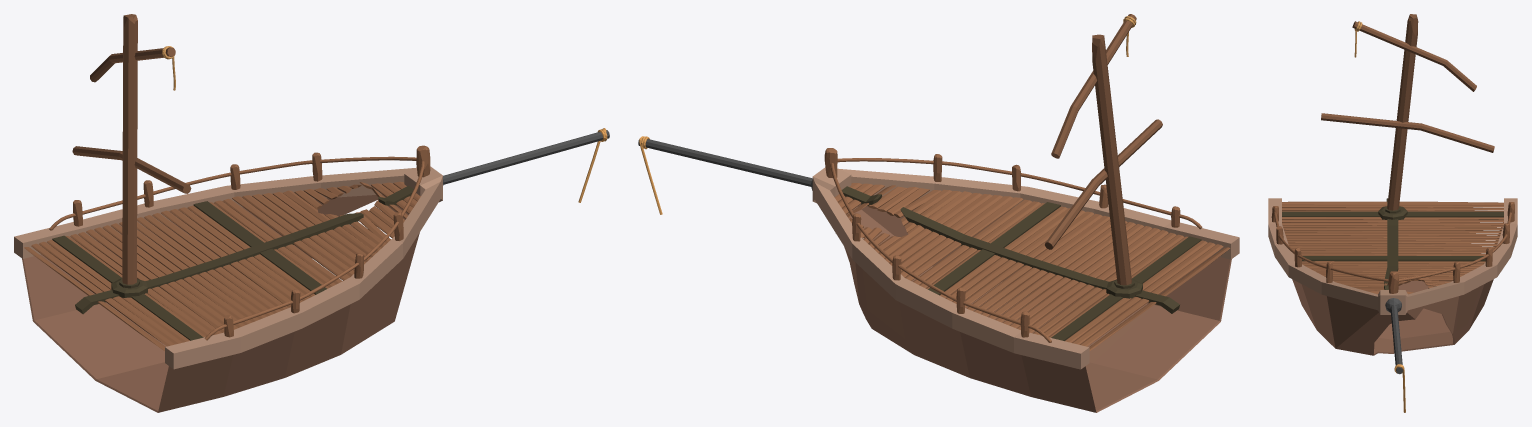
The model's file is low_poly_ship.fbx.
3 views of the same model, side by side, from view 1: azimuth 30°, elevation 25°; view 2: azimuth 150°, elevation 25°; view 3: azimuth 270°, elevation 25° (orthographic). The views are drawn at different scales.
Parts seen in each view (by area): view 1: Deck_floor, Ship_body, Railing, Deck_frame, Railing_tip; view 2: Deck_floor, Ship_body, Railing, Deck_frame, Railing_tip; view 3: Deck_floor, Deck_frame, Ship_body, Railing, Railing_tip.
Part boxes in pixels (x1,y1,x2,y2): Deck_floor: [24, 181, 420, 350]; Ship_body: [22, 194, 419, 412]; Railing: [14, 145, 442, 369]; Deck_frame: [52, 14, 413, 340]; Railing_tip: [443, 128, 609, 202]; Deck_floor: [834, 183, 1230, 350]; Ship_body: [844, 196, 1231, 412]; Railing: [812, 148, 1239, 369]; Deck_frame: [841, 14, 1201, 340]; Railing_tip: [638, 136, 812, 214]; Deck_floor: [1282, 201, 1503, 294]; Deck_frame: [1282, 14, 1503, 289]; Ship_body: [1284, 222, 1503, 355]; Railing: [1268, 198, 1517, 314]; Railing_tip: [1385, 298, 1405, 412].
Size of the model in its own units: 32.54 by 20.05 by 16.88.
